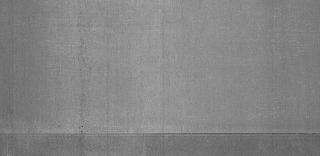welding line: (3, 128, 320, 140)
